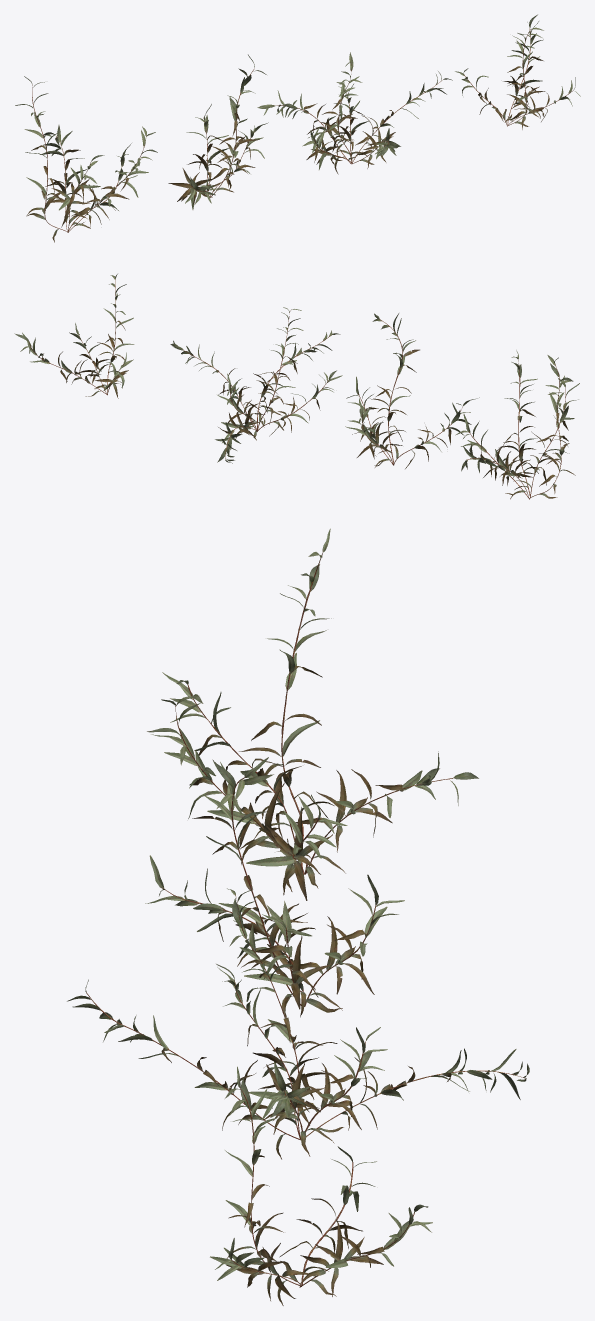
The model's file is shrub_02.glb.
The picture shows the model from 3 angles, top to bottom: view 1: azimuth 30°, elevation 25°; view 2: azimuth 150°, elevation 25°; view 3: azimuth 270°, elevation 25°; orthographic projection. The views are drawn at different scales.
Parts seen in each view (by area): view 1: shrub_02_a; view 2: shrub_02_a; view 3: shrub_02_a.
Part boxes in pixels (x1,y1,x2,y2): shrub_02_a: [15, 14, 580, 242]; shrub_02_a: [14, 274, 579, 499]; shrub_02_a: [67, 528, 529, 1305].
Size of the model in its own units: 6.05 by 1.7 by 2.29.
Materials: 1 (1 with a texture image).
